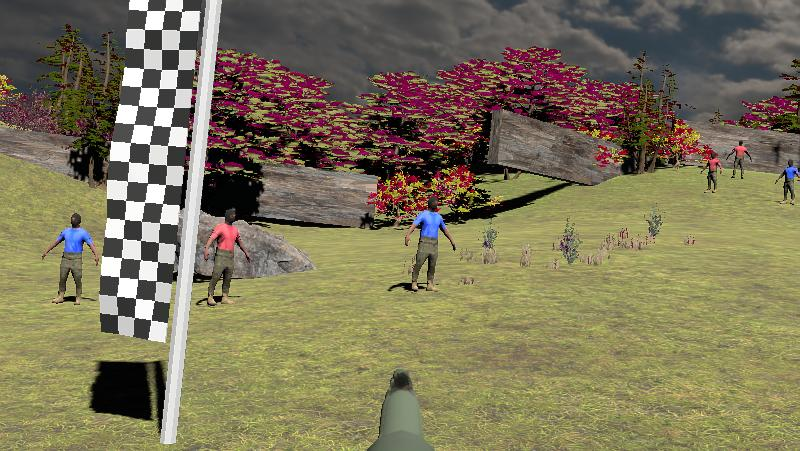Human: (42, 211, 100, 306), (405, 197, 456, 292), (203, 209, 250, 306), (776, 158, 800, 205), (727, 140, 752, 180), (702, 151, 723, 193)
